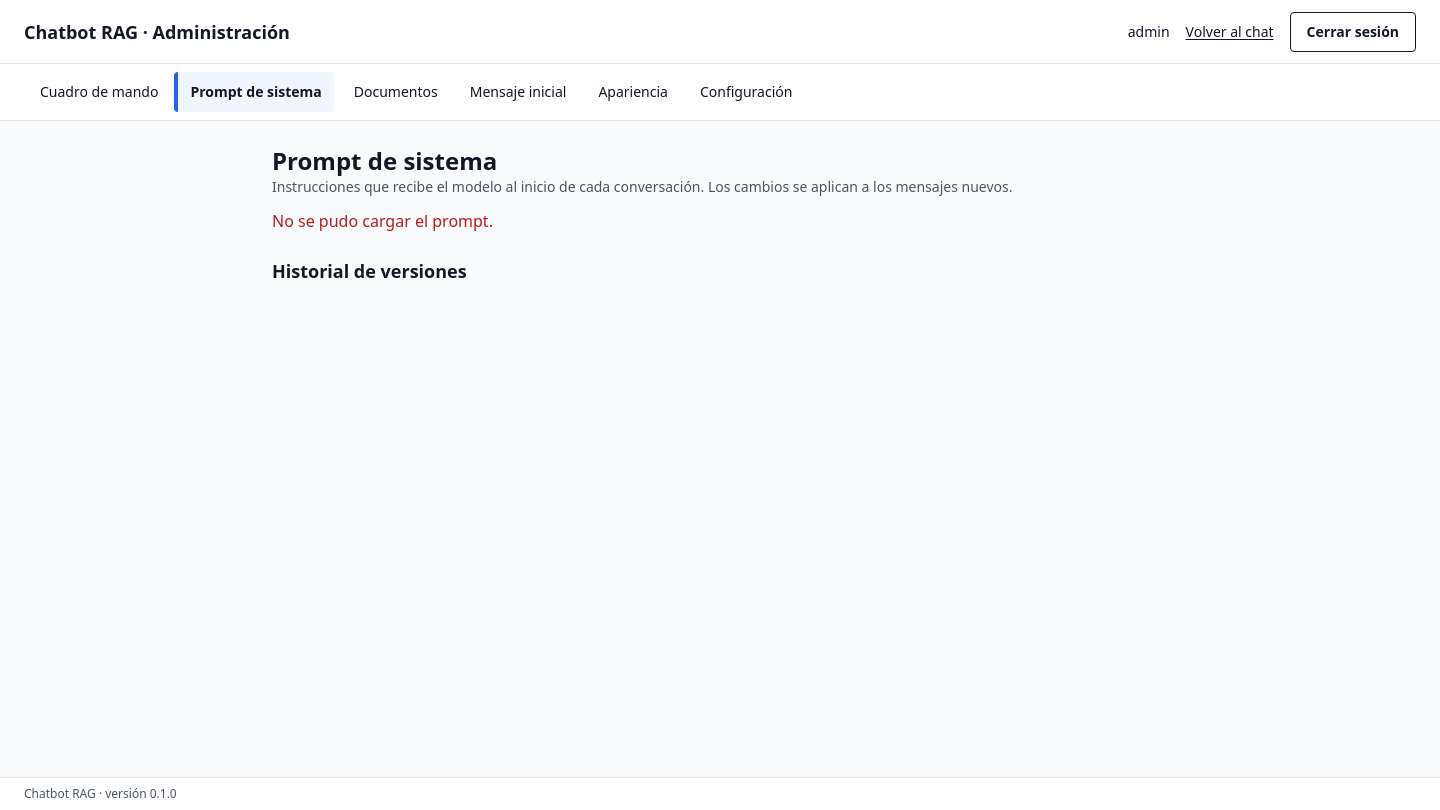
Test: ChatStartPage › se accede desde la navegación y carga la configuración actual
Click the link "Mensaje inicial". click: (518, 92)
box: [470,82,566,101]
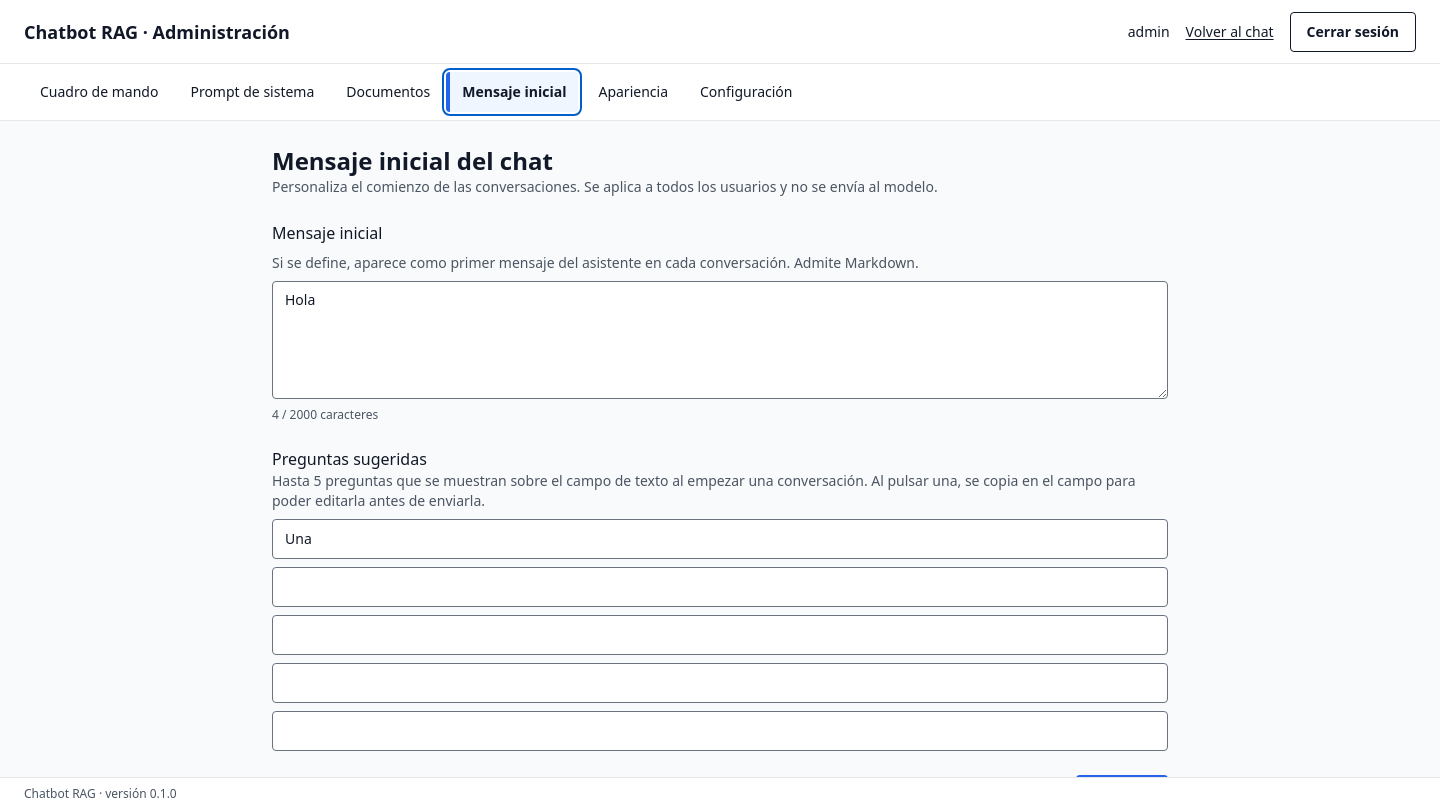
Now the text box labelled "Mensaje inicial" holds "Hola", box [272,281,1168,399]
